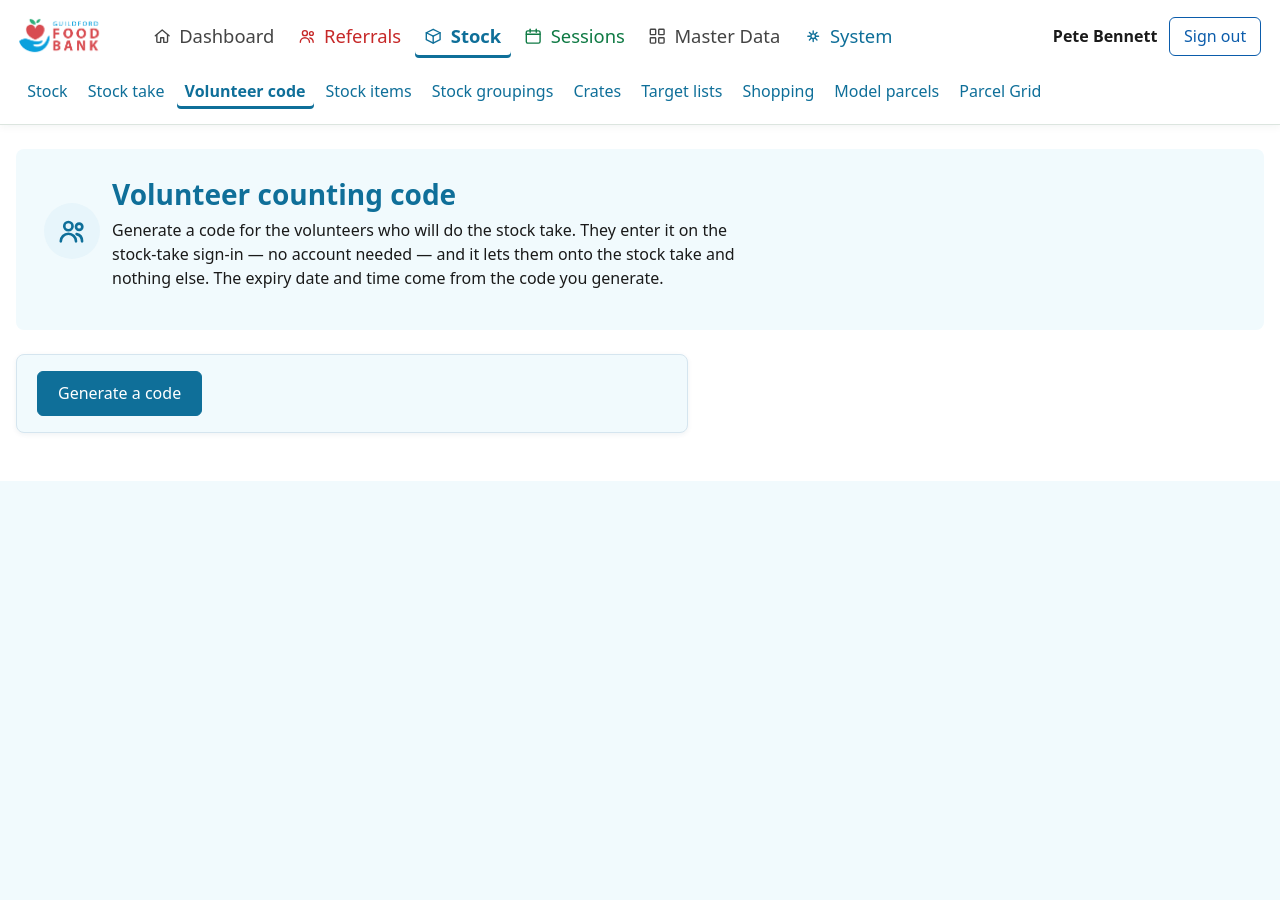
Test: the volunteer code screen › explains how to copy the whole message if clipboard access is unavailable
Click the button "Generate a code" at (120, 393), box [37,371,202,416]
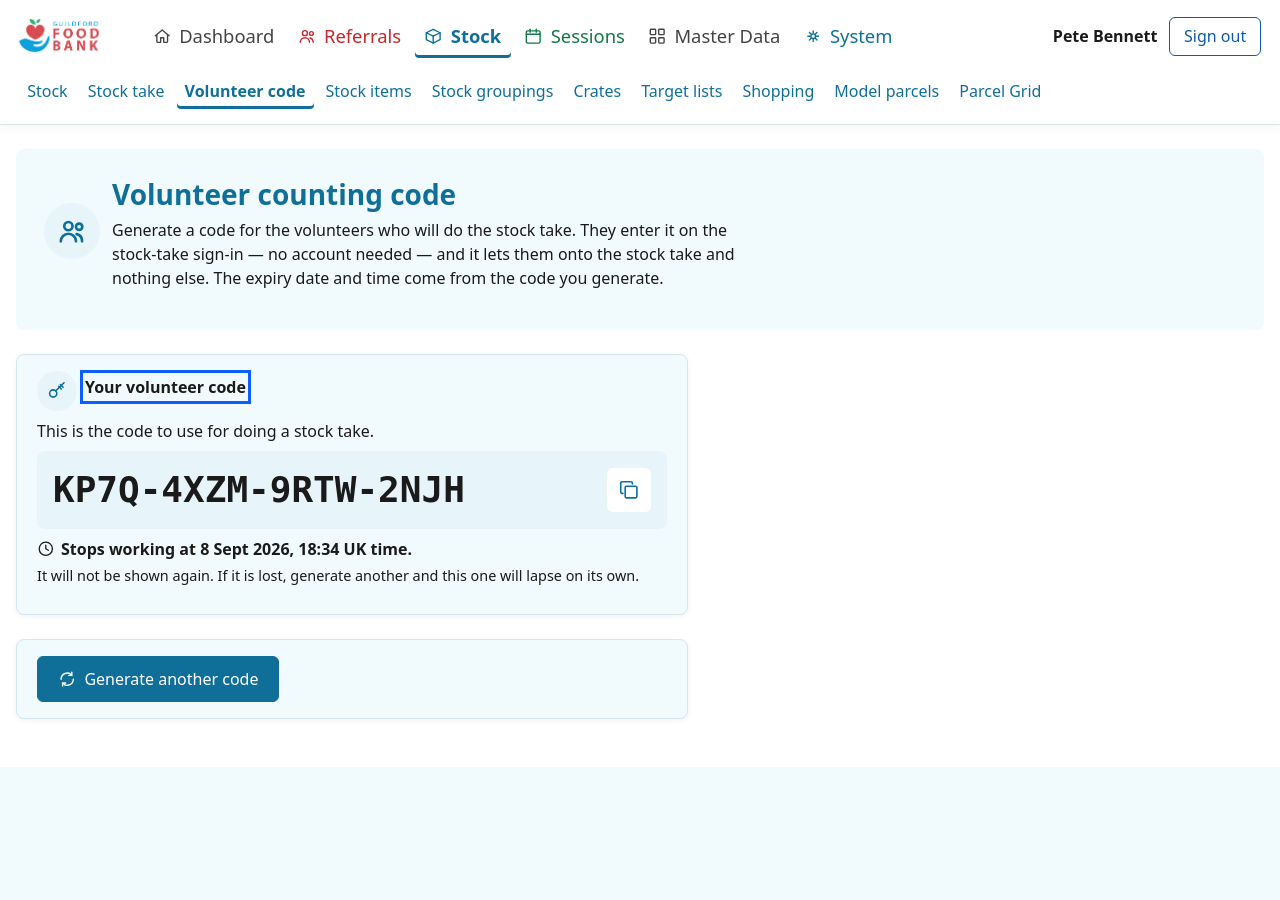
Click the button named "Copy code and message" at (629, 490), box [607,468,651,512]
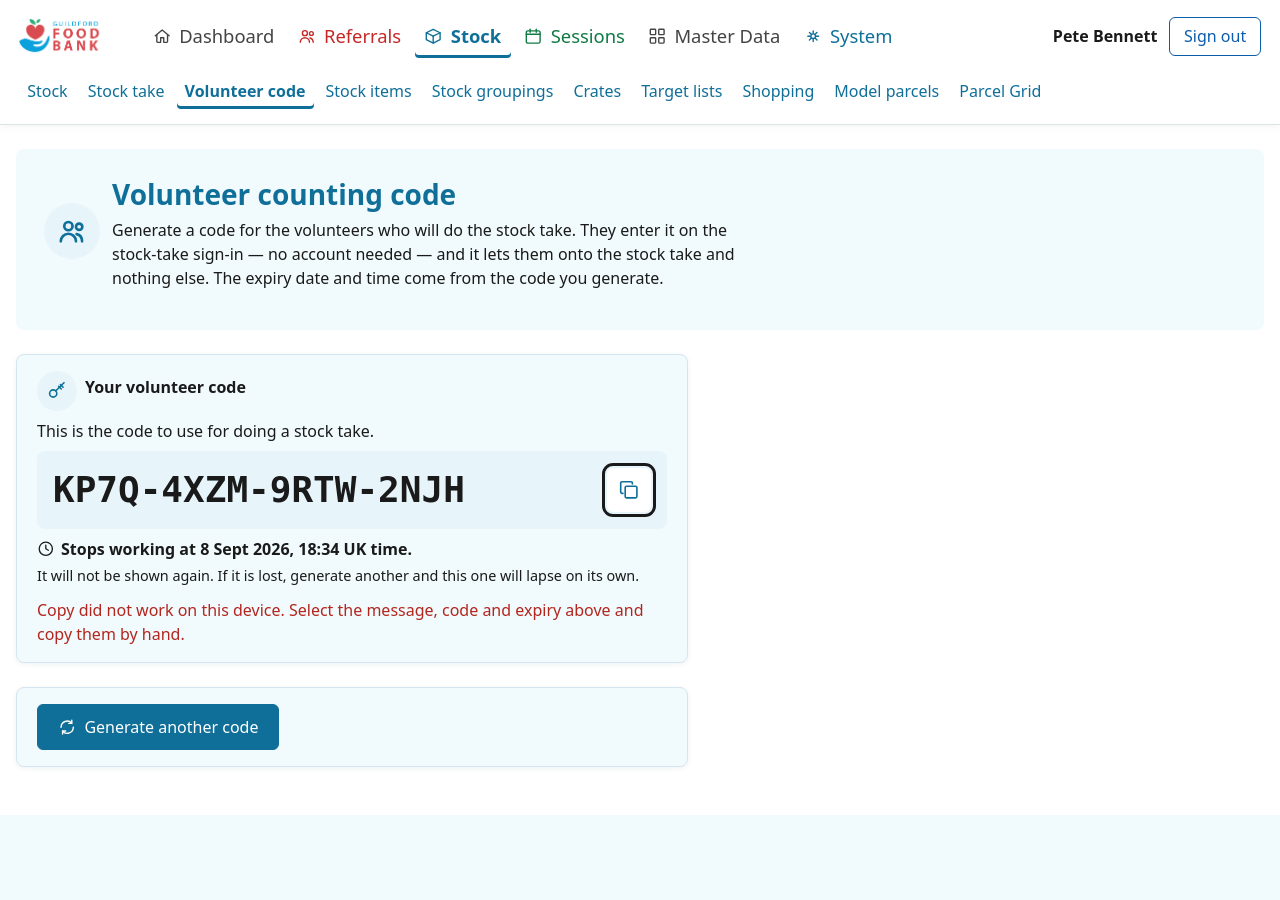
Expected: the text "Select the message, code and expiry above" is shown, [37,599,644,645]
